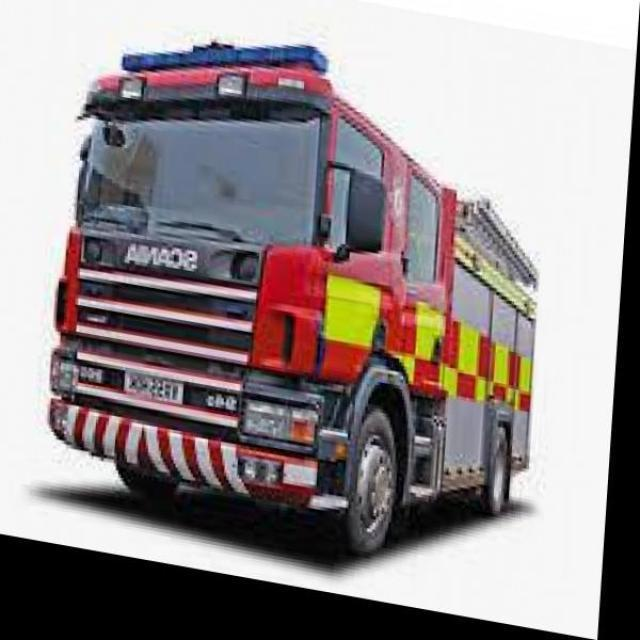emergency: (46, 39, 538, 558)
